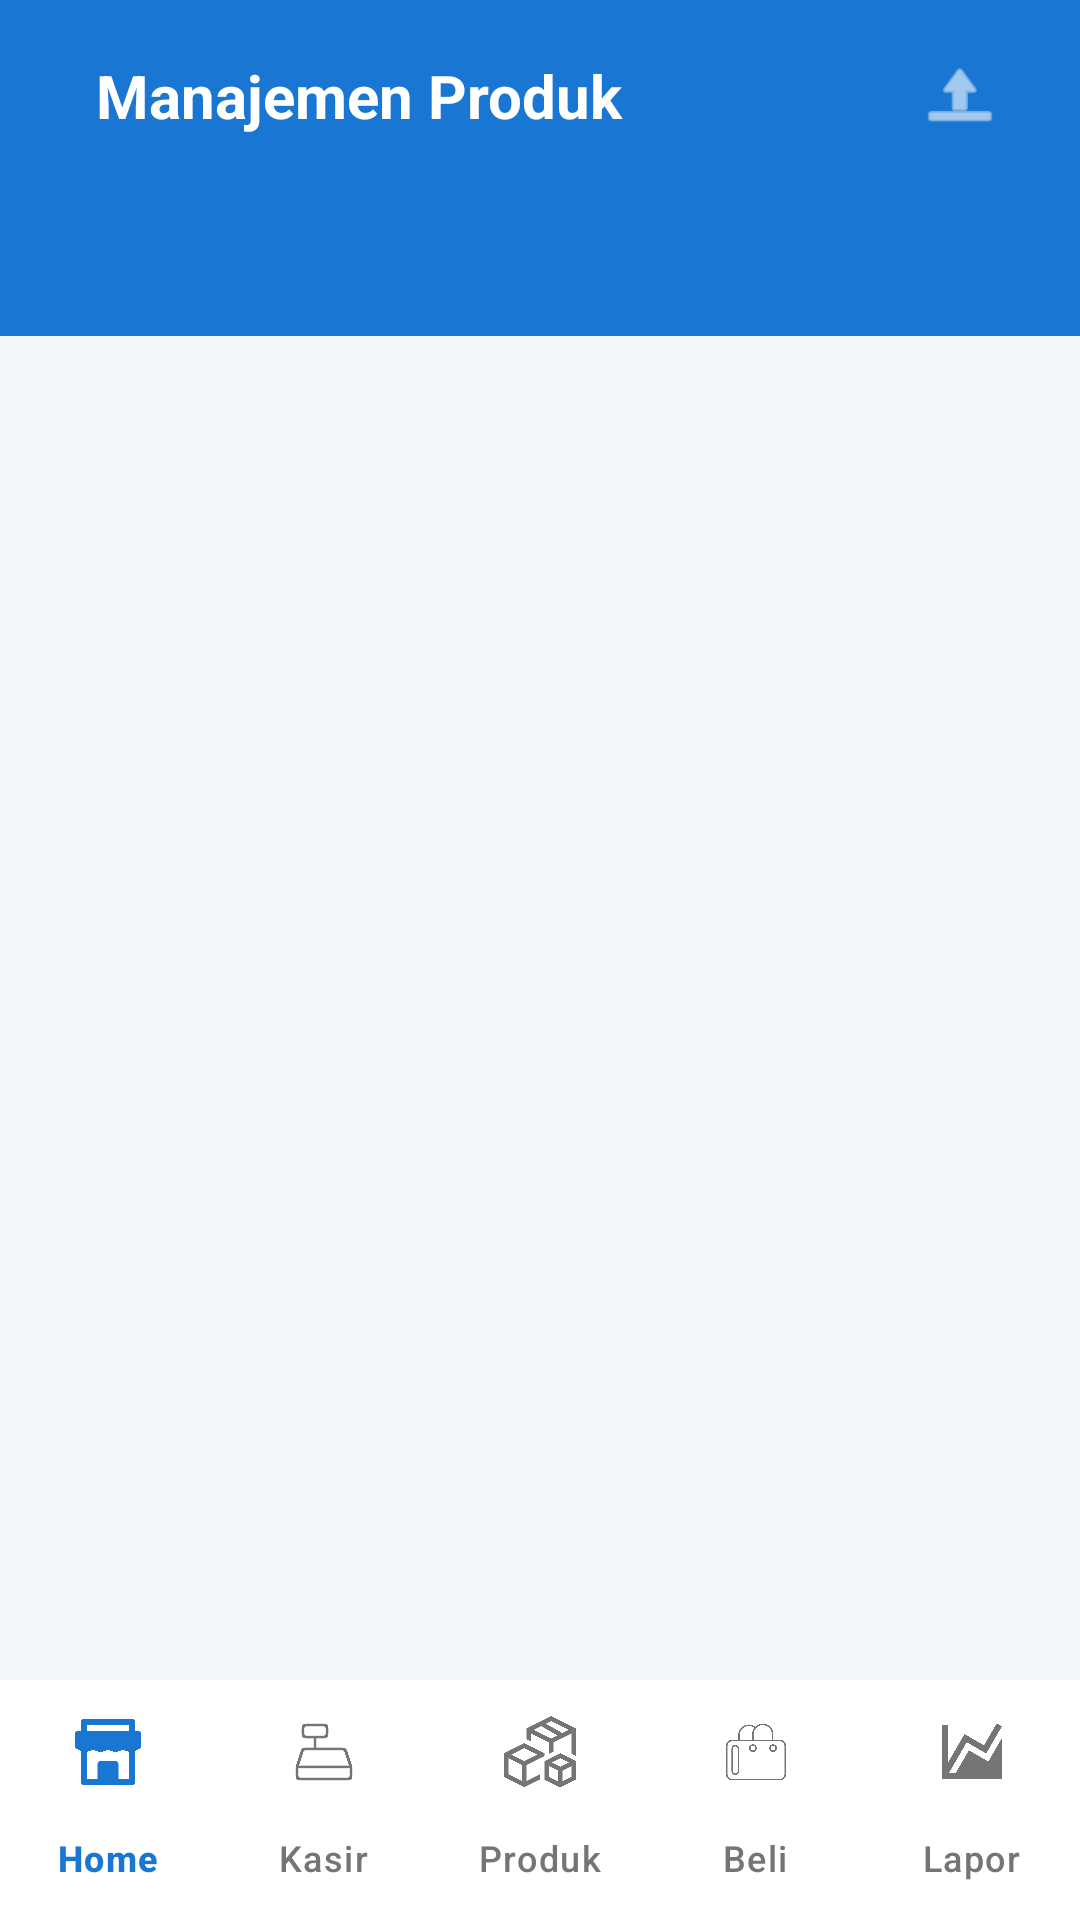

Icon bounding boxes for this 1080×1920 phone screenshot, format (x1, y1, x2, y2):
Import CSV: (928, 68, 992, 122)
